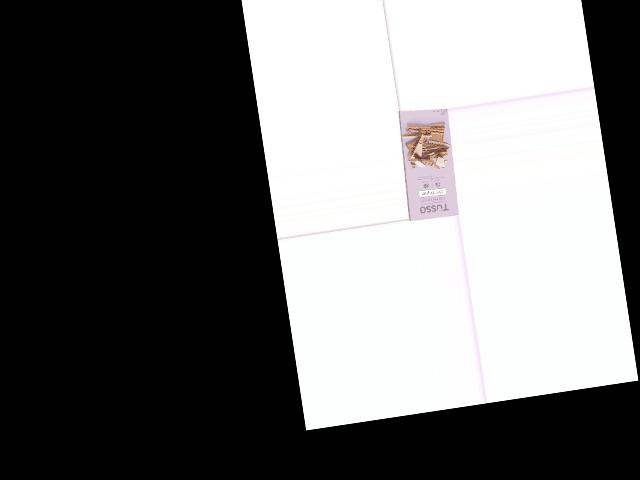chocolate: (396, 104, 460, 219)
